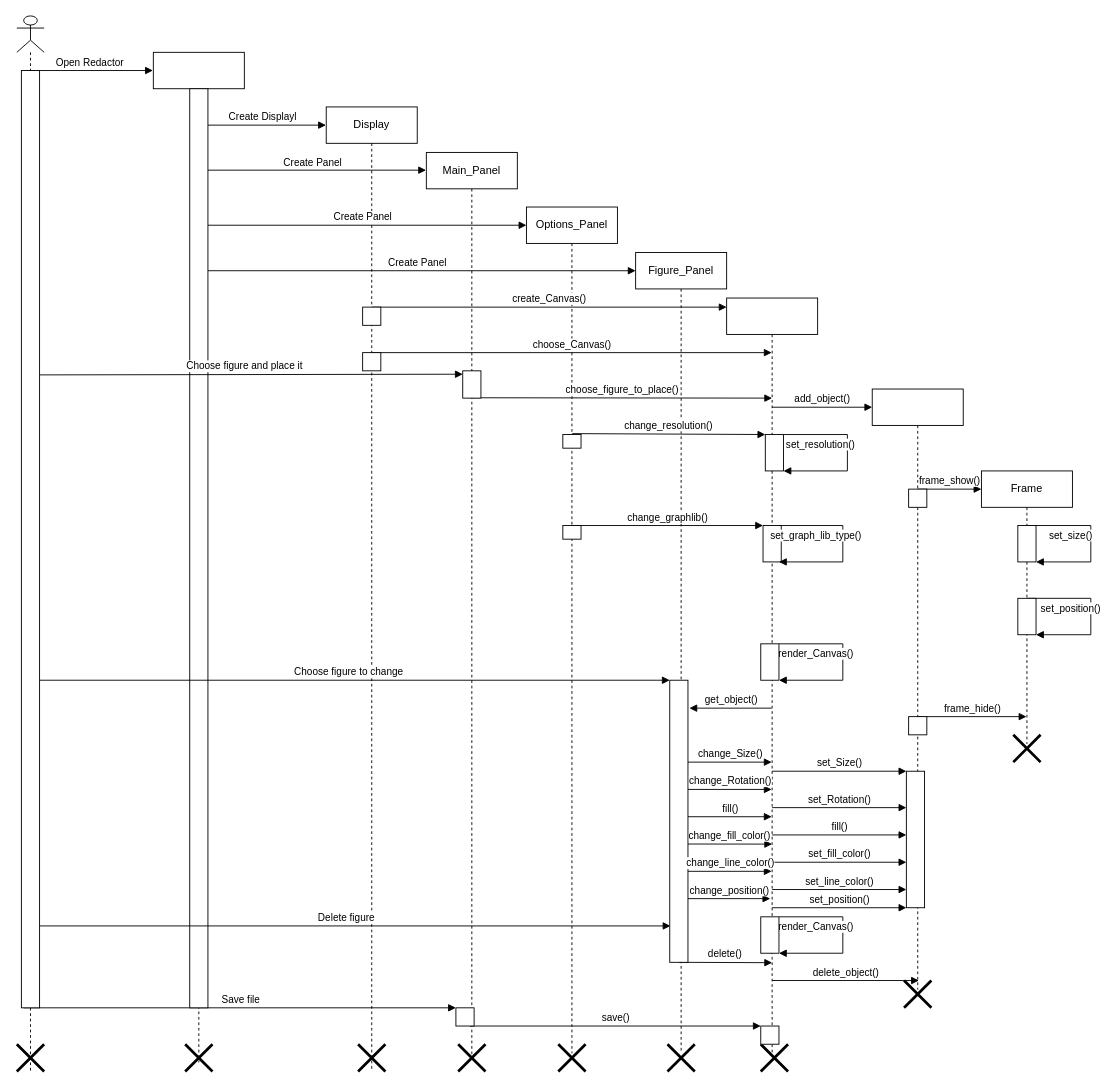
The diagram is 1117 pixels wide and 1088 high, and some of its shapes have lost their labels. The shapes that lost their labels are listed below. From the top down, each one's box as (x1, y1, x2, y2) in pixels, then its label:
(152, 51, 244, 1062): Drawing
(726, 297, 818, 1053): Canvas
(871, 388, 963, 990): Figure
